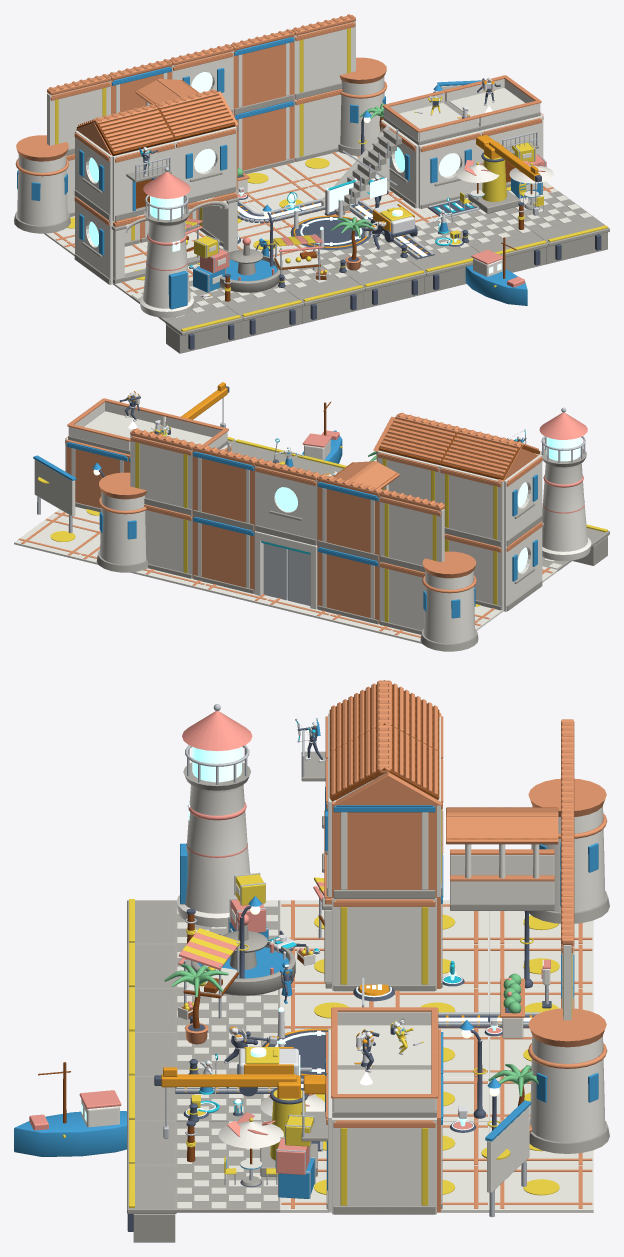
Rendered from hero-shooter-harbour-payload-harbour-squ-d9c52d90-starter-scene__27722.glb.
3 views of the same model, one above another, from view 1: azimuth 30°, elevation 25°; view 2: azimuth 150°, elevation 25°; view 3: azimuth 270°, elevation 25° (orthographic). The views are drawn at different scales.
Parts seen in each view (by area): view 1: 082-lighthouse-base/0, 065-wall-bay-terracotta/0, 072-corner-tower-segment/0, 066-wall-bay-plaster/0, 060-wall-bay-terracotta/0, 048-wall-bay-window/0, 035-wall-bay-window/0, 061-wall-bay-plaster/0, 055-rooftop-terrace-railed/1, 075-harbour-quay-edge/0, 062-wall-bay-plaster/0, 054-rooftop-terrace-railed/1 (+67 smaller); view 2: 082-lighthouse-base/0, 062-wall-bay-plaster/0, 036-wall-bay-plaster/0, 063-wall-bay-terracotta/0, 058-wall-bay-terracotta/0, 065-wall-bay-terracotta/0, 060-wall-bay-terracotta/0, 066-wall-bay-plaster/0, 064-wall-bay-window/0, 072-corner-tower-segment/0, 073-corner-tower-segment/0, 061-wall-bay-plaster/0 (+64 smaller); view 3: 053-wall-bay-plaster/0, 033-wall-bay-plaster/0, 039-wall-bay-terracotta/0, 082-lighthouse-base/0, 073-corner-tower-segment/0, 074-covered-bridge-span/2, 074-covered-bridge-span/1, 054-rooftop-terrace-railed/1, 055-rooftop-terrace-railed/1, 085-fishing-boat-small/0, 081-harbour-quay-edge/0, 006-ground-tile-plaza/0 (+75 smaller).
Part boxes in pixels (x1,y1,x2,y2): 082-lighthouse-base/0: (139,221,194,317); 065-wall-bay-terracotta/0: (233,36,294,114); 072-corner-tower-segment/0: (17,154,67,225); 066-wall-bay-plaster/0: (294,21,355,99); 060-wall-bay-terracotta/0: (233,100,294,170); 048-wall-bay-window/0: (418,130,481,208); 035-wall-bay-window/0: (174,126,236,197); 061-wall-bay-plaster/0: (294,88,341,161); 055-rooftop-terrace-railed/1: (445,79,540,126); 075-harbour-quay-edge/0: (165,306,242,353); 062-wall-bay-plaster/0: (47,81,110,149); 054-rooftop-terrace-railed/1: (384,93,478,141); 082-lighthouse-base/0: (542,463,591,560); 062-wall-bay-plaster/0: (379,496,444,565); 036-wall-bay-plaster/0: (440,466,503,546); 063-wall-bay-terracotta/0: (317,481,379,560); 058-wall-bay-terracotta/0: (317,546,379,624); 065-wall-bay-terracotta/0: (192,450,254,530); 060-wall-bay-terracotta/0: (192,515,254,593); 066-wall-bay-plaster/0: (130,435,192,515); 064-wall-bay-window/0: (255,465,317,545); 072-corner-tower-segment/0: (423,571,475,643); 073-corner-tower-segment/0: (100,491,146,564); 061-wall-bay-plaster/0: (145,504,192,578); 053-wall-bay-plaster/0: (332,1116,436,1214); 033-wall-bay-plaster/0: (332,898,436,990); 039-wall-bay-terracotta/0: (332,800,436,898); 082-lighthouse-base/0: (176,785,250,927); 073-corner-tower-segment/0: (530,1036,605,1142); 074-covered-bridge-span/2: (446,807,558,881); 074-covered-bridge-span/1: (450,844,554,904); 054-rooftop-terrace-railed/1: (337,1012,431,1065); 055-rooftop-terrace-railed/1: (332,1069,436,1112); 085-fishing-boat-small/0: (14,1111,126,1156); 081-harbour-quay-edge/0: (127,1165,176,1242); 006-ground-tile-plaza/0: (489,1165,593,1212).
Size of the model in its own units: 30.02 by 10.76 by 22.79.
Materials: 16 (2 with a texture image).
